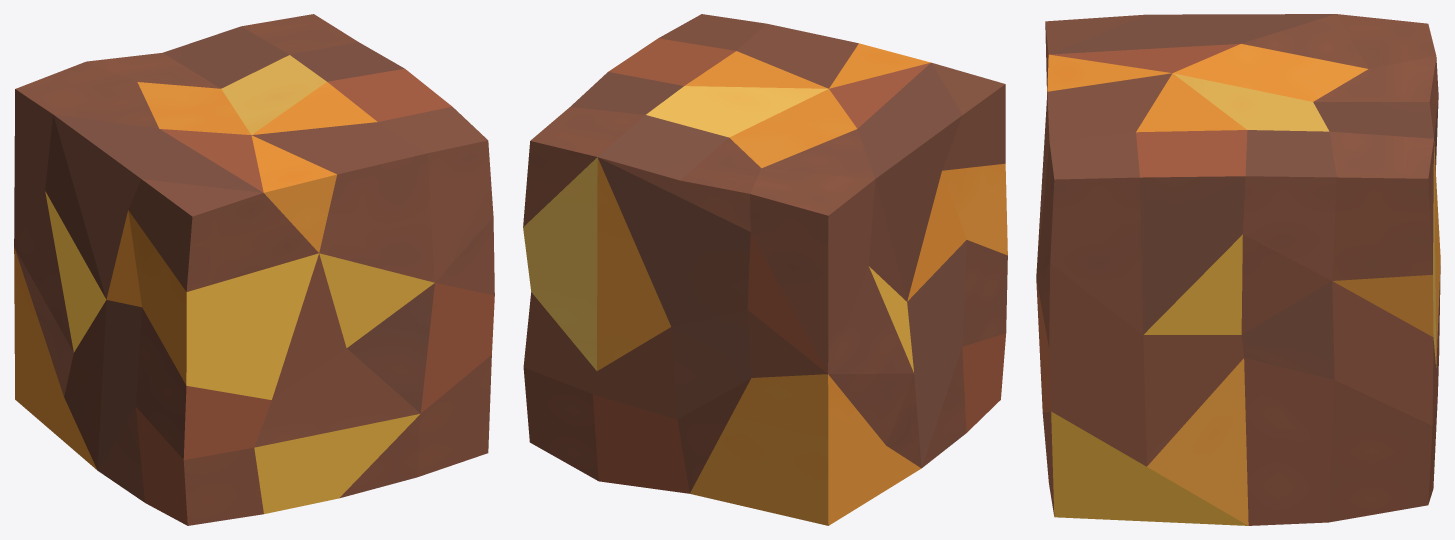
File: blockgold.glb
The picture shows the model from 3 angles, left to right: view 1: azimuth 30°, elevation 25°; view 2: azimuth 150°, elevation 25°; view 3: azimuth 270°, elevation 25°; orthographic projection. The views are drawn at different scales.
Visible parts, largest first — view 1: CubeGold; view 2: CubeGold; view 3: CubeGold.
Boxes of the visible parts, x1,y1,x2,y2 form: CubeGold: [14, 14, 494, 525]; CubeGold: [523, 14, 1007, 525]; CubeGold: [1036, 14, 1440, 525].
Size of the model in its own units: 2.21 by 2.2 by 2.19.
1 material, 1 textured.
